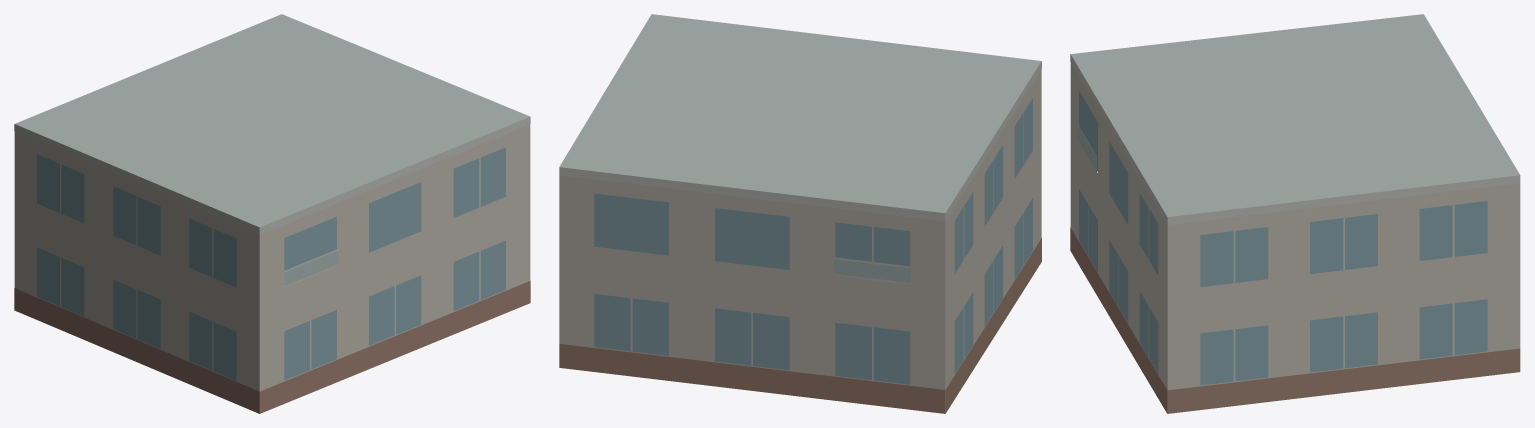
Rendered from survey-upis-32686877.glb.
3 renders of one model, left to right at view 1: azimuth 30°, elevation 25°; view 2: azimuth 150°, elevation 25°; view 3: azimuth 270°, elevation 25°, orthographic. The views are drawn at different scales.
Parts seen in each view (by area): view 1: survey-upis-32686877.tmp; view 2: survey-upis-32686877.tmp; view 3: survey-upis-32686877.tmp.
Part boxes in pixels (x1,y1,x2,y2): survey-upis-32686877.tmp: (14,14,530,413); survey-upis-32686877.tmp: (559,14,1041,413); survey-upis-32686877.tmp: (1070,14,1520,413).
Bounding box in the file's own units: 13.52 × 6.1 × 12.65.
